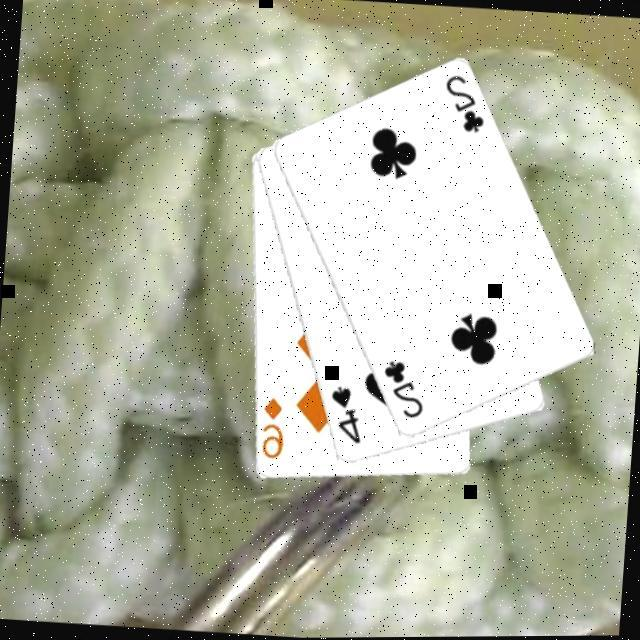2C: (378, 355, 430, 421), (440, 70, 490, 136)
4S: (325, 382, 367, 446)
9D: (257, 392, 290, 462)
